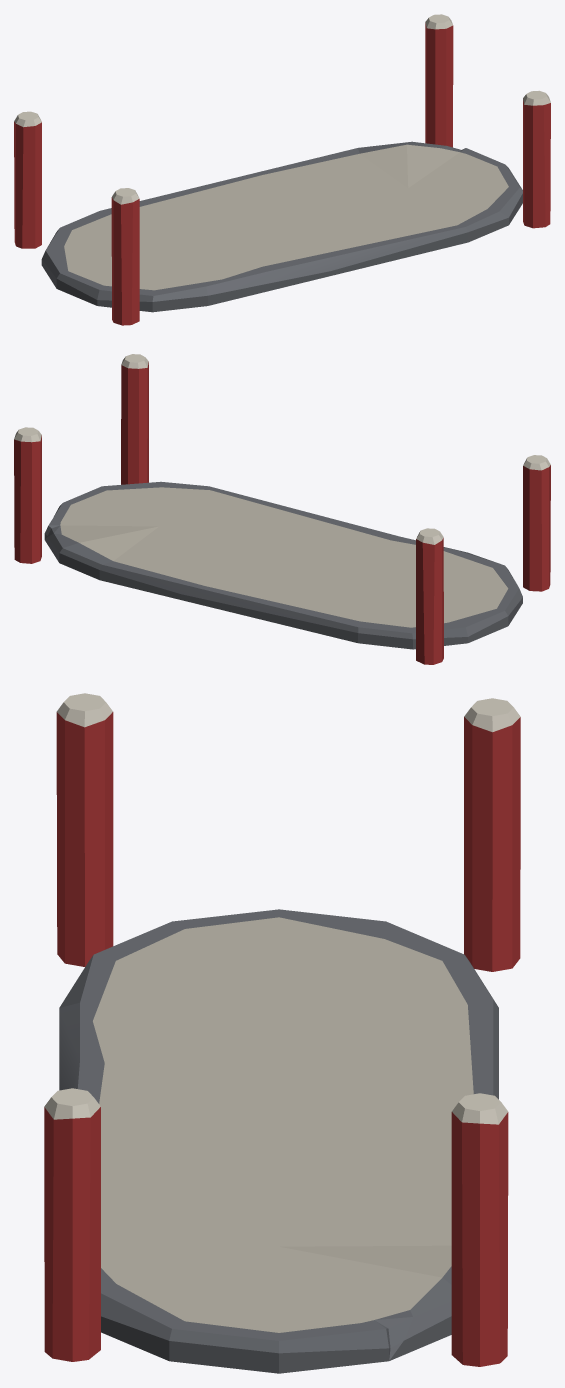
The model's file is syn-base.glb.
The picture shows the model from 3 angles, top to bottom: view 1: azimuth 30°, elevation 25°; view 2: azimuth 150°, elevation 25°; view 3: azimuth 270°, elevation 25°; orthographic projection. The views are drawn at different scales.
Visible parts, largest first — view 1: SM_Prop_Gaspump_Base_01; view 2: SM_Prop_Gaspump_Base_01; view 3: SM_Prop_Gaspump_Base_01.
Boxes of the visible parts, bbox=[...] form: SM_Prop_Gaspump_Base_01: bbox=[14, 14, 550, 325]; SM_Prop_Gaspump_Base_01: bbox=[14, 354, 550, 664]; SM_Prop_Gaspump_Base_01: bbox=[44, 693, 520, 1373].
Bounding box in the file's own units: 4.73 × 1.28 × 2.17.
